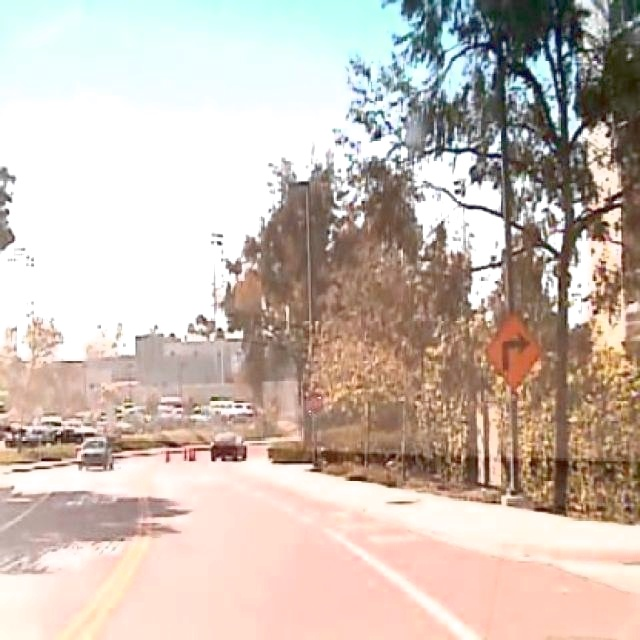stop: (305, 389, 323, 415)
turnRight: (485, 309, 543, 392)
